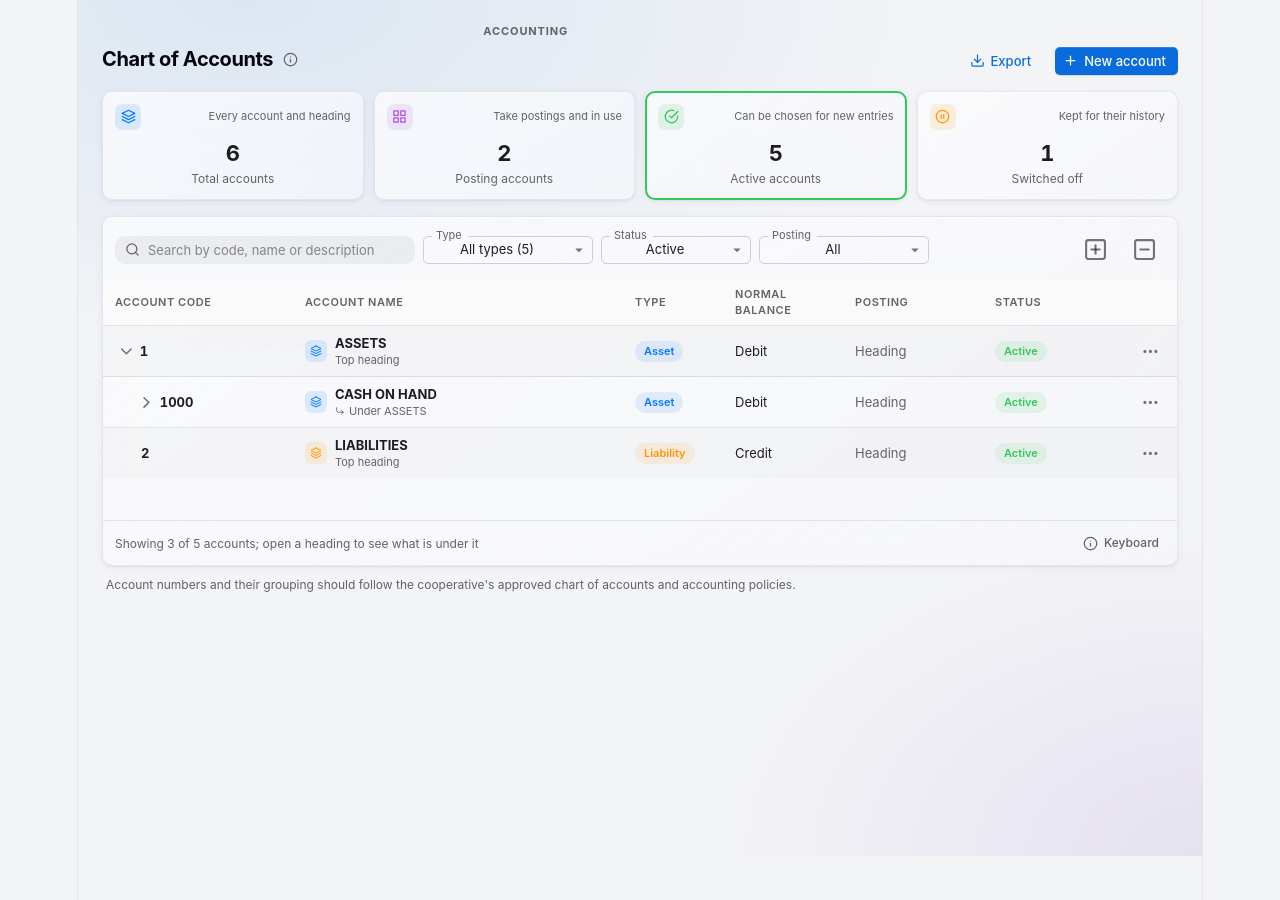
Chart of Accounts › shows an account with who changed it and what changed
Click the button named "Expand" at [146, 402], box [135,391,158,414]
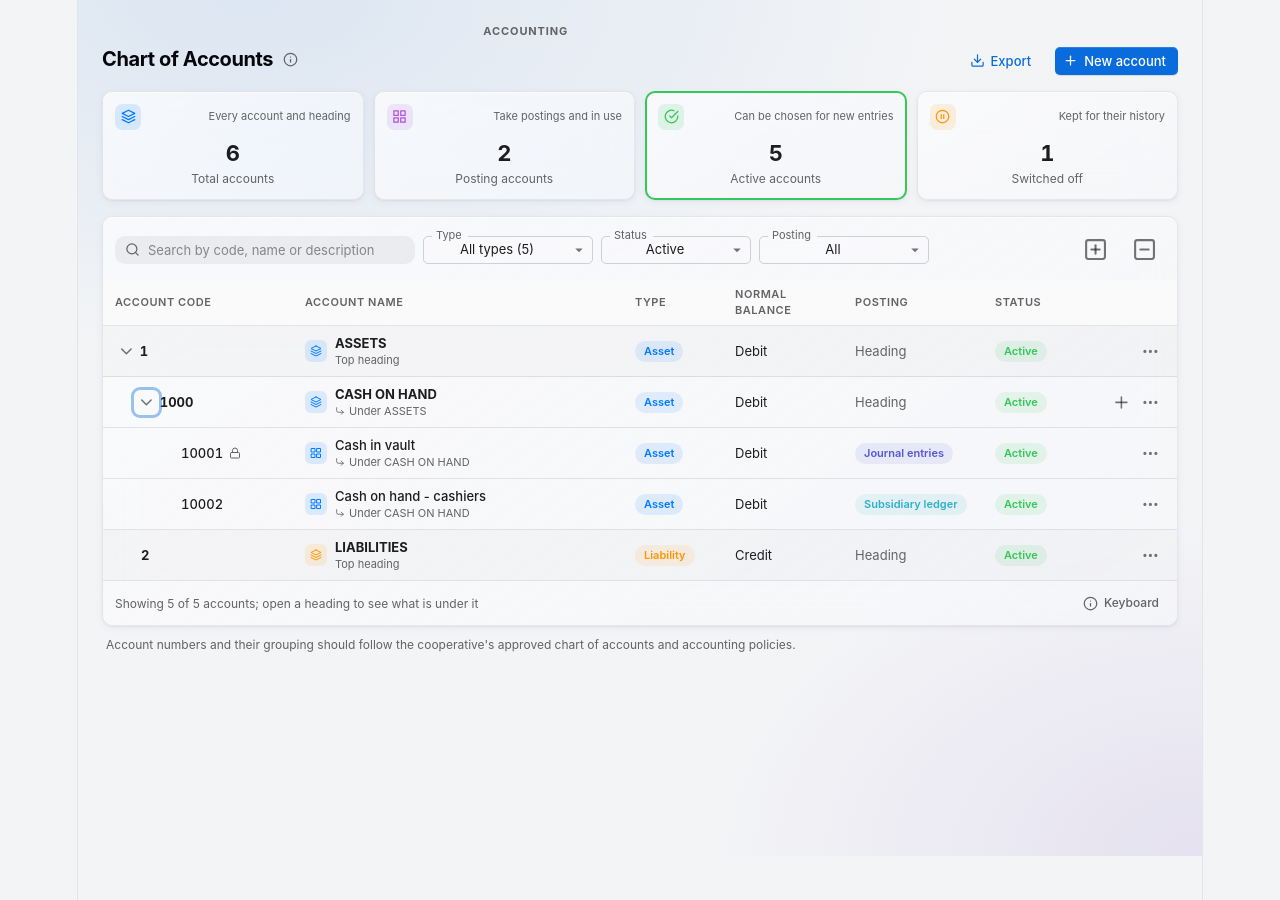
Click the button named "More for 10001" at [1151, 453], box [1136,439,1165,468]
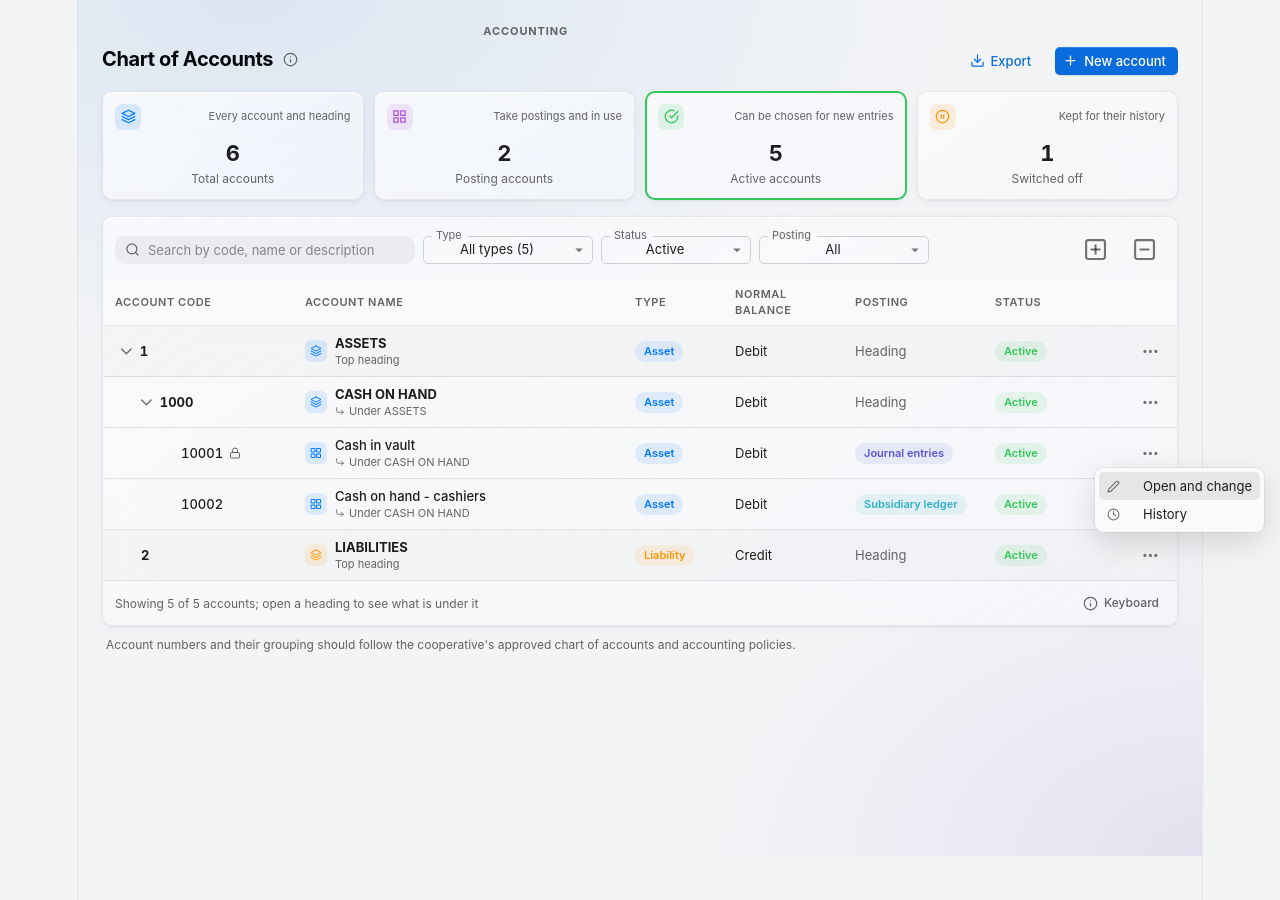
Click the menu item "History" at [1147, 514], box [1107,506,1187,522]
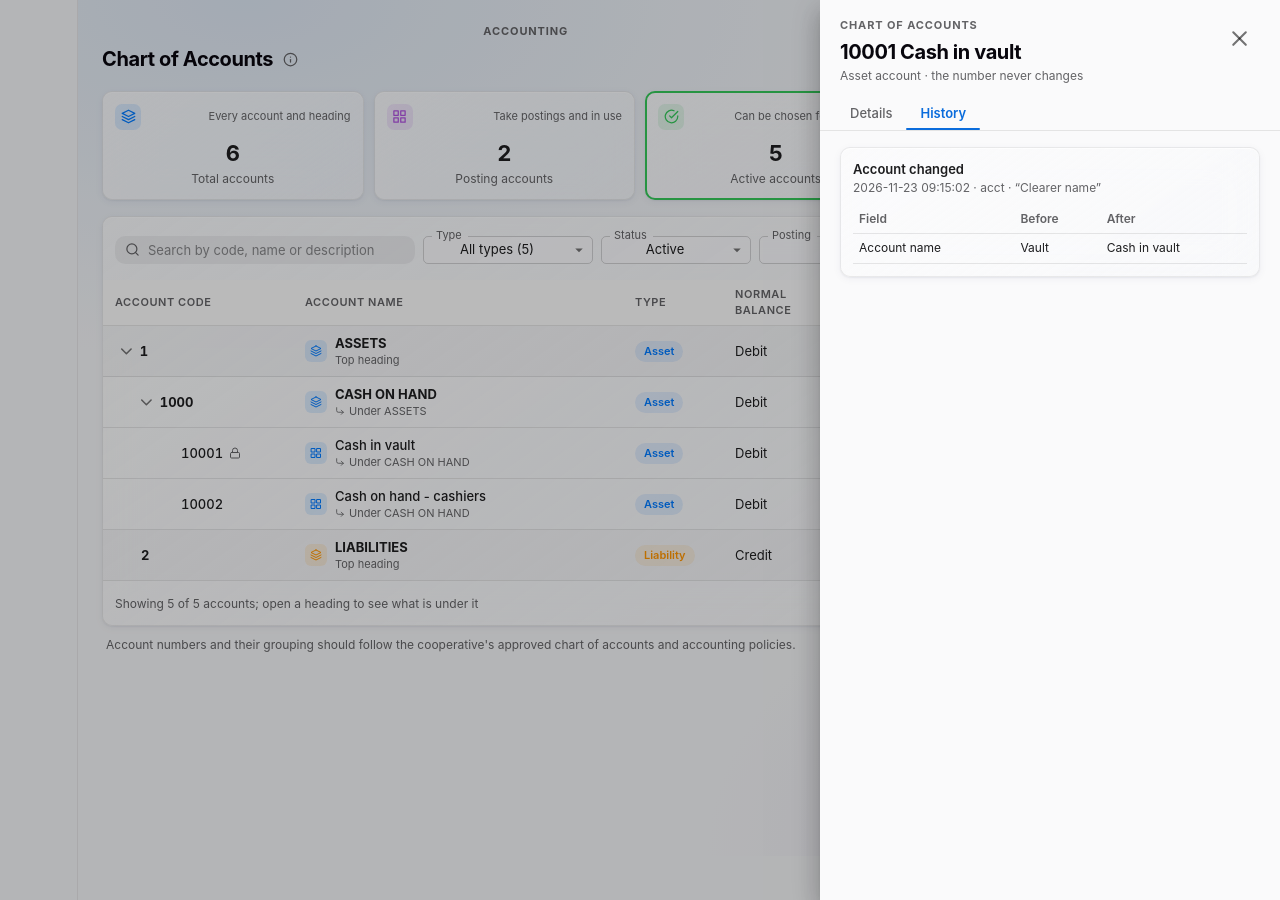
Check: the text "Account changed" is shown, box [853,161,964,177]
Check: the text "2026-11-23 09:15:02 · acct · “Clearer name”" is shown, box [853,180,1101,195]
Check: the cell "Vault" is shown, box [1014,234,1101,264]
